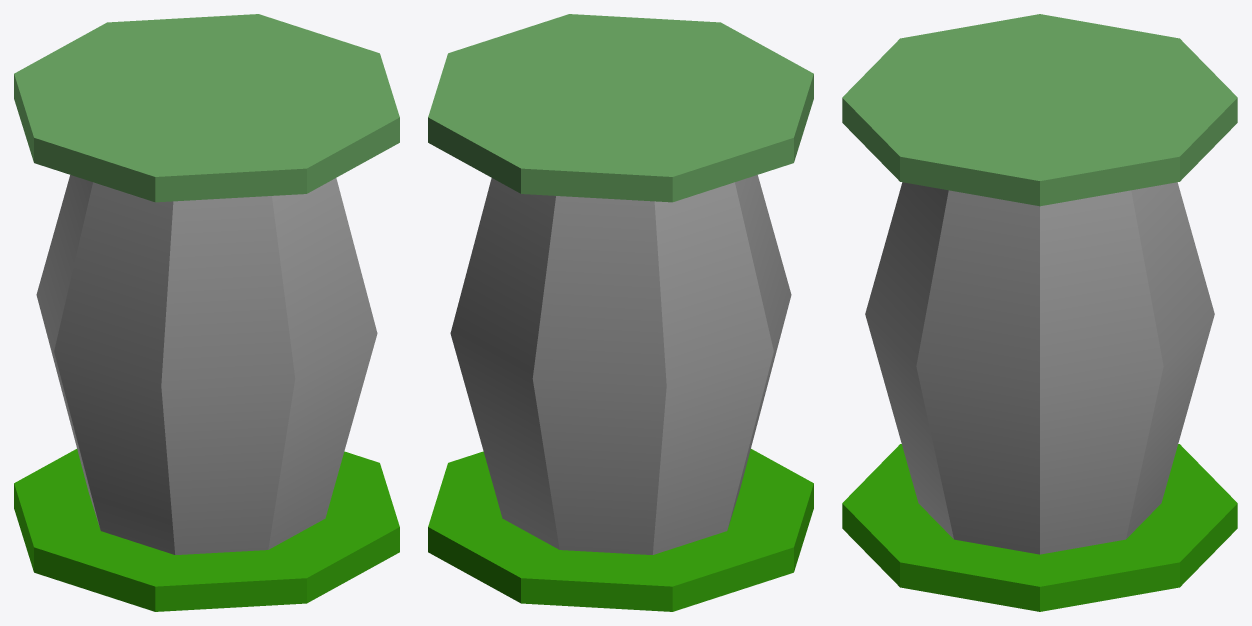
Rendered from teletransporte.fbx.
3 views of the same model, side by side, from view 1: azimuth 30°, elevation 25°; view 2: azimuth 150°, elevation 25°; view 3: azimuth 270°, elevation 25° (orthographic).
Parts seen in each view (by area): view 1: teletransporte, techo, piso; view 2: teletransporte, techo, piso; view 3: teletransporte, techo, piso.
Boxes of the visible parts, x1=… form: teletransporte: x1=36, y1=175, x2=377, y2=554; techo: x1=14, y1=14, x2=399, y2=202; piso: x1=14, y1=449, x2=399, y2=611; teletransporte: x1=450, y1=175, x2=791, y2=554; techo: x1=428, y1=14, x2=813, y2=202; piso: x1=428, y1=449, x2=813, y2=611; teletransporte: x1=865, y1=182, x2=1214, y2=554; techo: x1=842, y1=14, x2=1237, y2=206; piso: x1=842, y1=444, x2=1237, y2=611.
Size of the model in its own units: 1.2 by 1.44 by 1.2.
